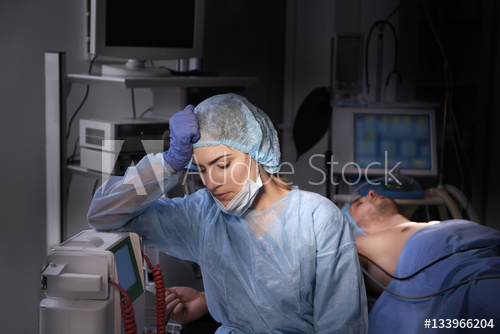mask_weared_incorrect: (186, 129, 277, 221)
